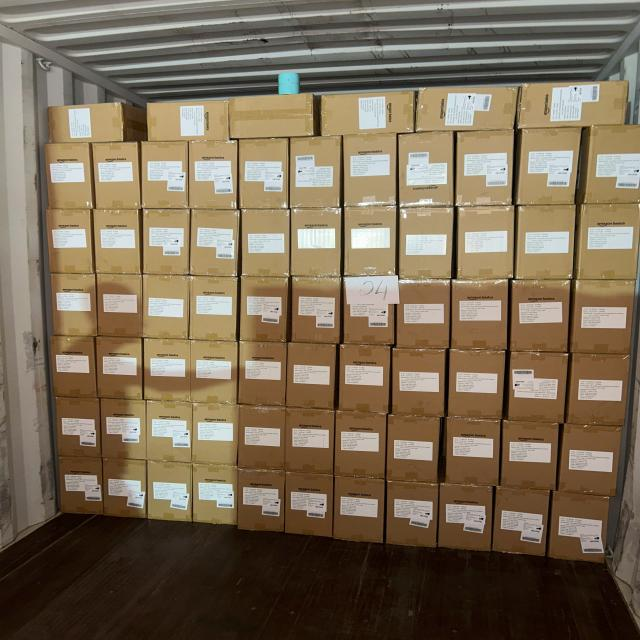Carton: (518, 78, 628, 127), (518, 126, 580, 205), (571, 282, 634, 358), (576, 202, 637, 280), (418, 88, 519, 134), (583, 123, 640, 204), (455, 128, 514, 206), (567, 354, 630, 427), (319, 91, 415, 138), (518, 206, 576, 282), (457, 206, 515, 282), (560, 423, 622, 494), (507, 350, 566, 423), (509, 278, 568, 351), (400, 131, 455, 209), (549, 491, 607, 564), (454, 279, 510, 352), (343, 134, 398, 208), (446, 346, 502, 418), (400, 204, 454, 278), (446, 419, 502, 489), (393, 344, 447, 416), (344, 207, 397, 280), (501, 422, 556, 492), (493, 486, 548, 556), (399, 281, 452, 352), (227, 97, 312, 141), (440, 486, 494, 555), (290, 136, 340, 210), (236, 136, 286, 210), (389, 416, 441, 486), (338, 345, 390, 415), (388, 482, 440, 552), (290, 209, 341, 280), (344, 279, 396, 348), (336, 410, 387, 480), (242, 210, 292, 280), (335, 476, 385, 546), (191, 138, 239, 210), (149, 102, 230, 144), (192, 207, 241, 276), (141, 139, 189, 209), (46, 141, 95, 209), (91, 140, 139, 209), (286, 342, 336, 408), (95, 210, 144, 277), (290, 279, 339, 346), (140, 210, 188, 278), (238, 274, 286, 342), (47, 208, 95, 274), (286, 406, 334, 472), (283, 471, 331, 537), (190, 278, 238, 344), (240, 403, 287, 470), (192, 339, 240, 404), (94, 336, 142, 401), (143, 336, 190, 402), (94, 272, 141, 338), (49, 271, 96, 337), (143, 272, 189, 339), (240, 340, 288, 404), (48, 336, 96, 400), (193, 402, 240, 467), (239, 468, 286, 532), (148, 400, 195, 464), (48, 105, 124, 144), (56, 395, 102, 459), (100, 399, 146, 461), (193, 465, 239, 527), (146, 461, 191, 522), (102, 458, 146, 520), (57, 457, 103, 516)
